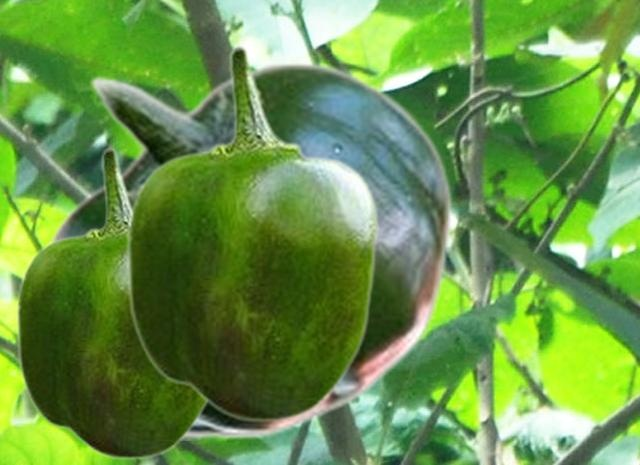bell_pepper: (42, 60, 452, 439), (125, 44, 379, 423), (15, 146, 209, 460)
